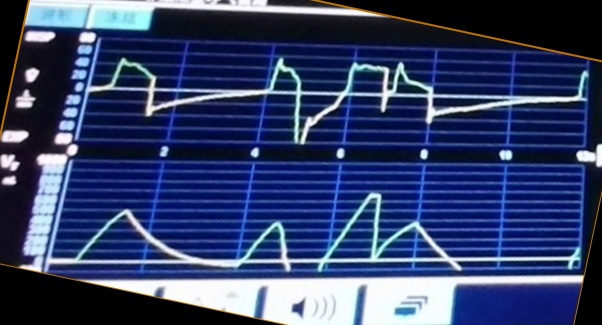Double_Triggering Flow: (101, 55, 554, 145)
Double_Triggering Volume: (74, 191, 478, 272)
